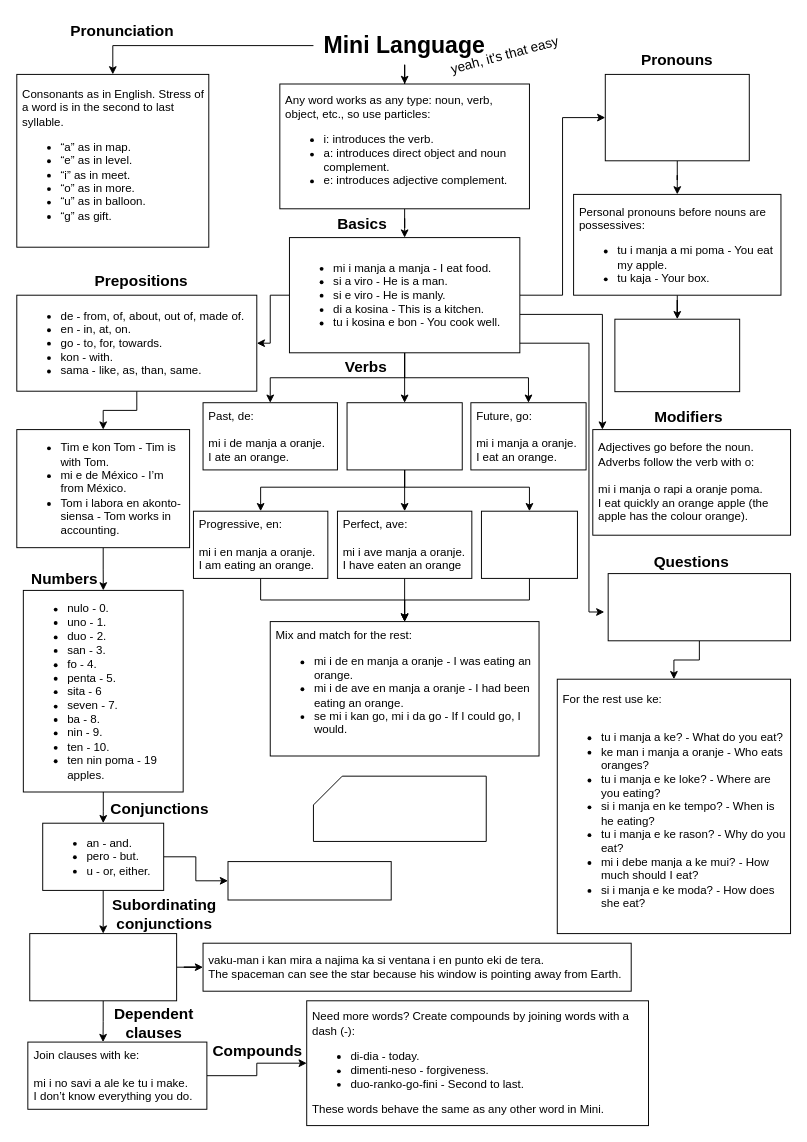
Some shapes in this 807 by 1142 pixel diagram are drawn without their labels. Each missing label, with the centre of its shape:
"For simple questions just add ?: tu i manja a oranje? Do you eat oranges?" goes at [699,607].
"Imperative: i manja a oranje! Eat an orange!" goes at [528,544].
"ka - because. se - if. tamen - although. vile - while." goes at [103,967].
"mi - I, me. tu - You. si - He, she, it. si-ale - They." goes at [676,117].
"mi i manja a poma an oranje. I eat an apple and an orange." goes at [309,880].
"More info minilanguage.com jprogr.github.io/mini-resources" goes at [399,808].
"Present: mi i manja a oranje. I eat an orange." goes at [404,436].
"You can also use “de”: poma de Tom. The apple of Tom." goes at [677,355].
